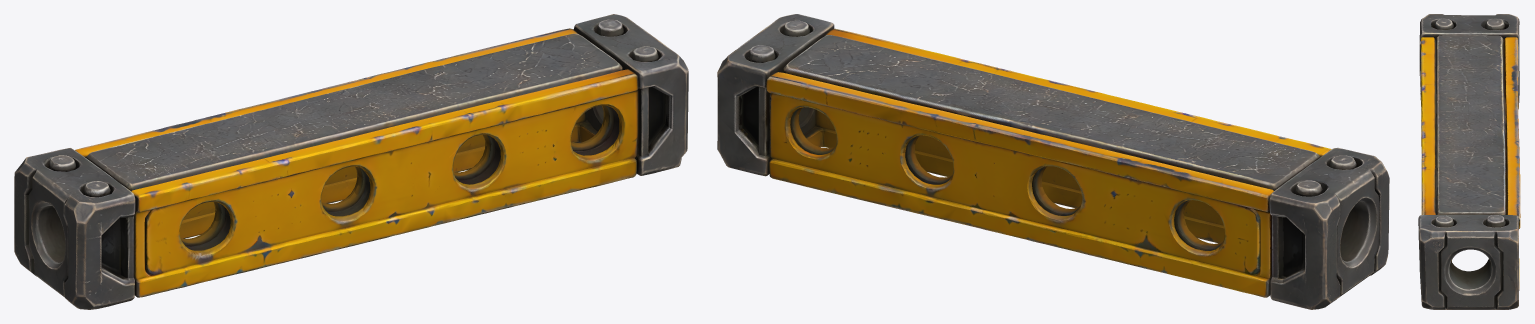
The model's file is base_basic_pbr.glb.
3 views of the same model, side by side, from view 1: azimuth 30°, elevation 25°; view 2: azimuth 150°, elevation 25°; view 3: azimuth 270°, elevation 25° (orthographic). The views are drawn at different scales.
Parts seen in each view (by area): view 1: model; view 2: model; view 3: model.
Part boxes in pixels (bbox=[...]): model: bbox=[14, 14, 688, 309]; model: bbox=[717, 14, 1389, 309]; model: bbox=[1418, 14, 1520, 309].
Bounding box in the file's own units: 1.9 × 0.3354 × 0.3712.
Materials: 1 (1 with a texture image).
